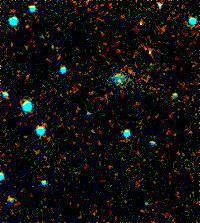star: (125, 12, 155, 42)
